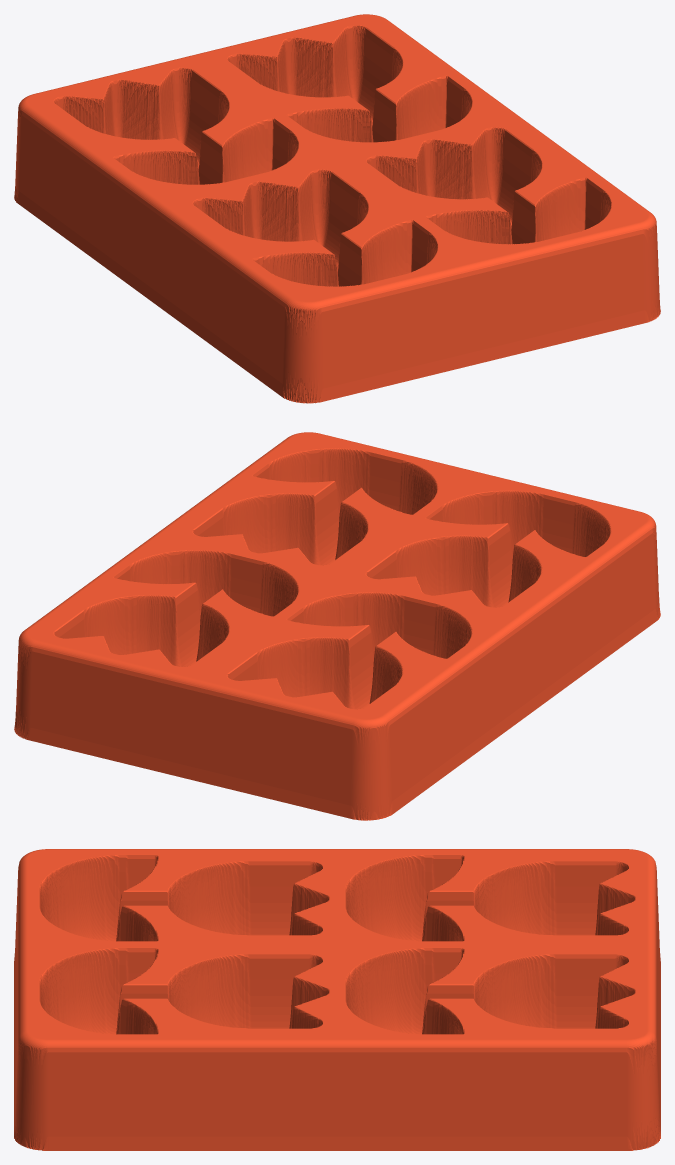
File: mold.glb
3 renders of one model, top to bottom at view 1: azimuth 30°, elevation 25°; view 2: azimuth 150°, elevation 25°; view 3: azimuth 270°, elevation 25°, orthographic. The views are drawn at different scales.
Parts seen in each view (by area): view 1: geometry_0; view 2: geometry_0; view 3: geometry_0.
Part boxes in pixels (left/top/right/bottom): geometry_0: left=14, top=14, right=660, bottom=403; geometry_0: left=14, top=432, right=660, bottom=820; geometry_0: left=14, top=849, right=660, bottom=1150.
Size of the model in its own units: 0.1266 by 0.031 by 0.1721.
